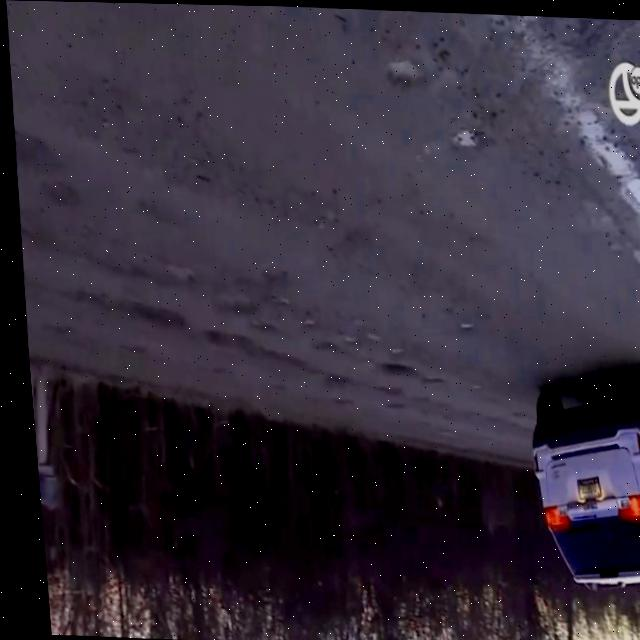Pothole: (102, 303, 185, 332), (11, 124, 55, 170), (380, 56, 427, 98), (446, 120, 483, 157), (36, 180, 77, 213), (206, 288, 249, 319), (199, 328, 249, 351), (152, 258, 192, 284), (57, 285, 100, 309), (255, 258, 288, 284), (314, 368, 347, 392), (373, 359, 412, 379), (305, 341, 335, 357)
